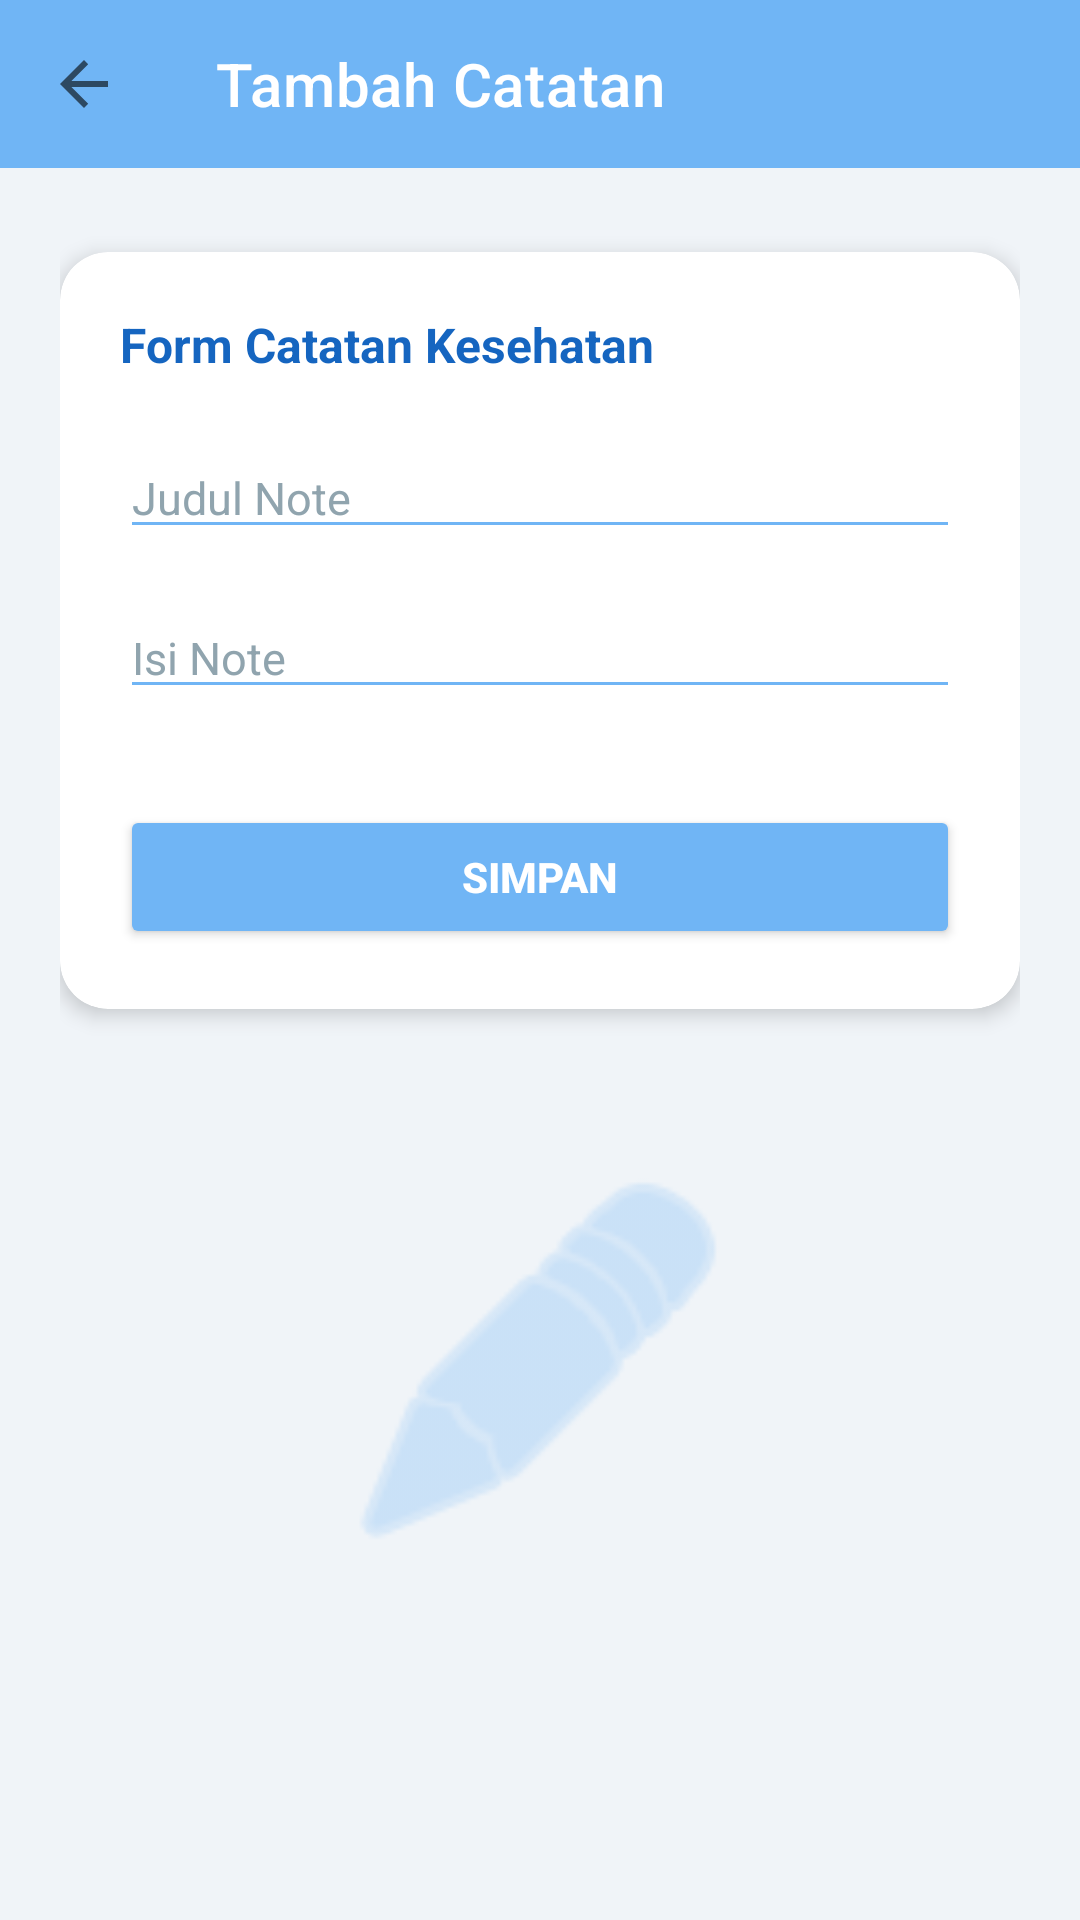

Locate icon controls on the screen. Image size 1080 × 1920, boxes as (x1, y1, x2, y2).
edit: (366, 1186, 713, 1532)
